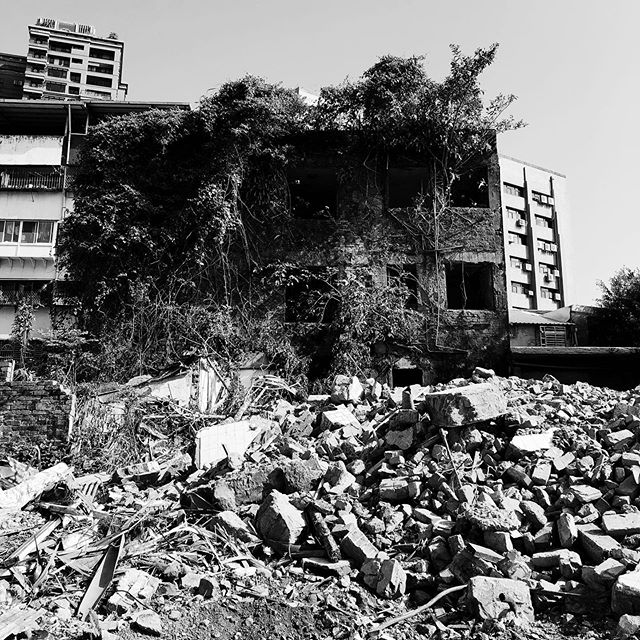building: (9, 97, 573, 349), (17, 14, 140, 105)
debris: (1, 369, 602, 640)
sky: (142, 5, 640, 246)
